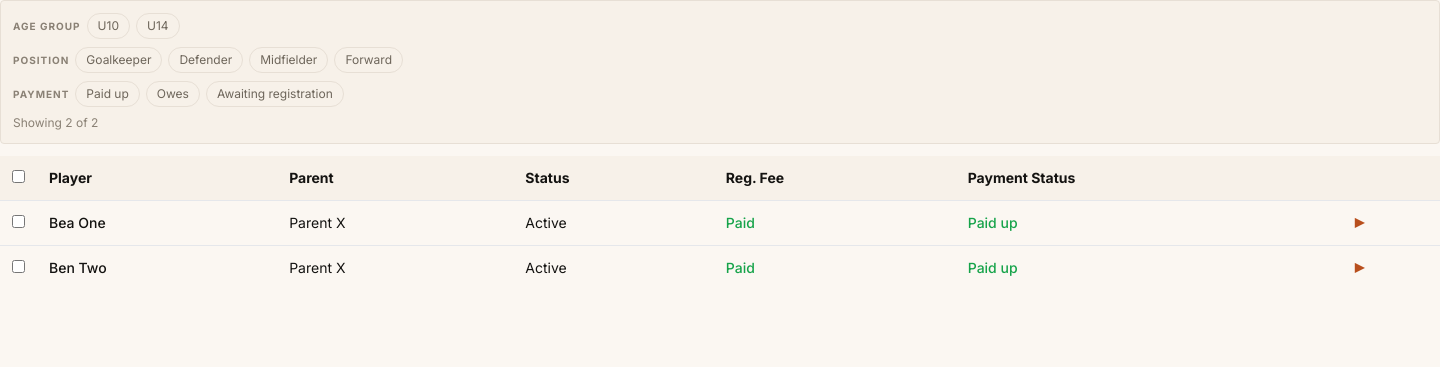
Test: PlayersTable local updates (no reload) › bulk-applying re-fetches every affected player and merges without a page reload
Click the checkbox named "Select all".
click(18, 176)  # box [12,170,25,183]
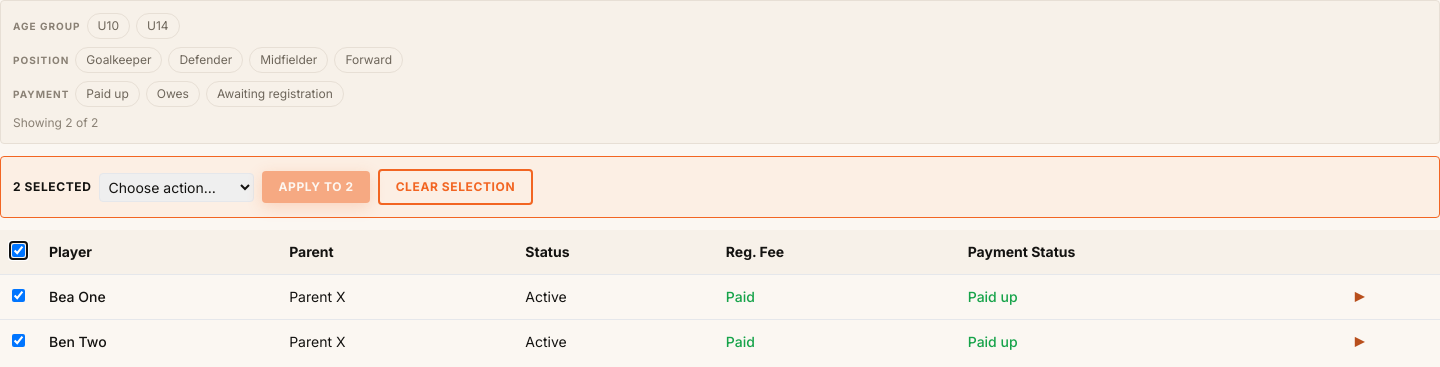
Select "Set status" in the dropdown at (177, 187), box [100,172,254,202]
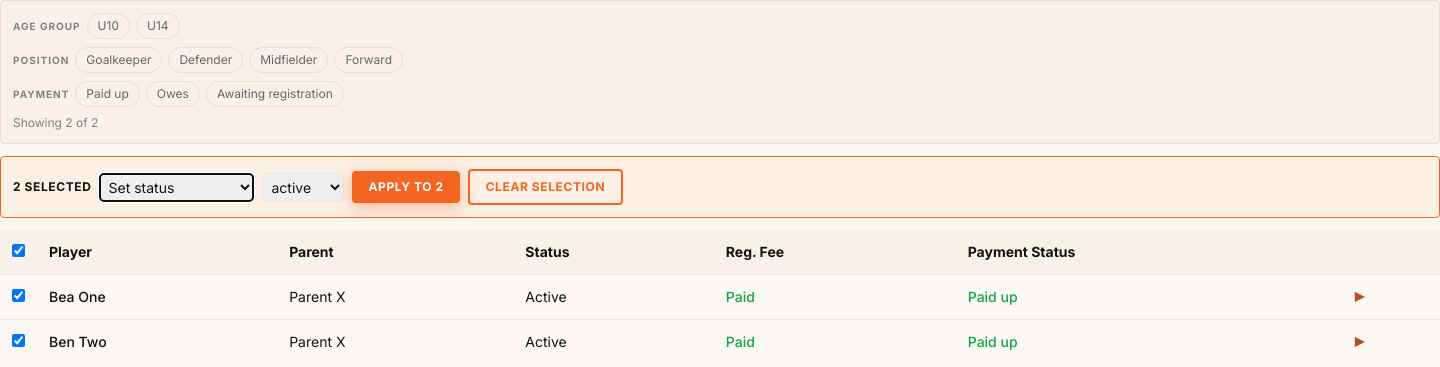
Click the button "Apply to 2".
click(406, 187)  # box [352,171,460,203]
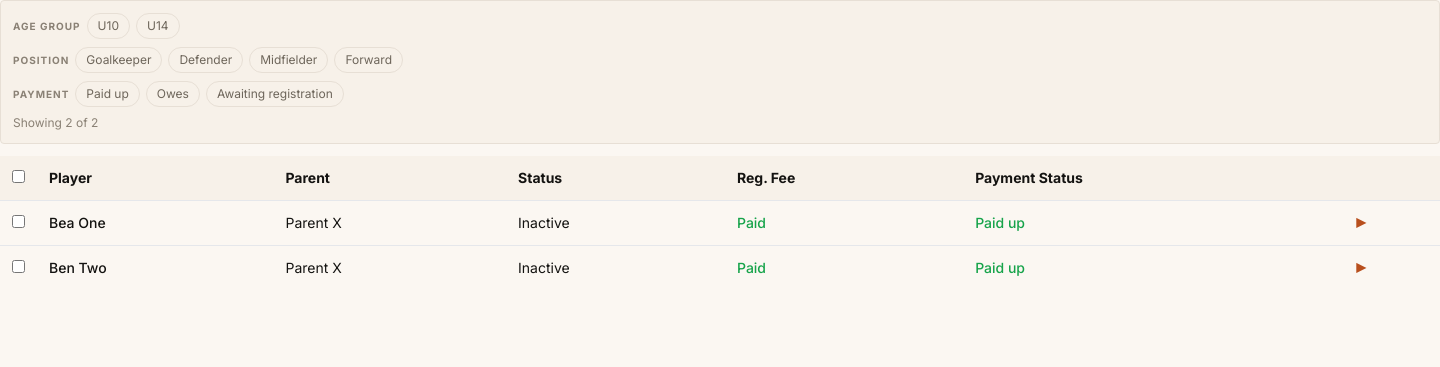
Expected: the text "selected" is gone
